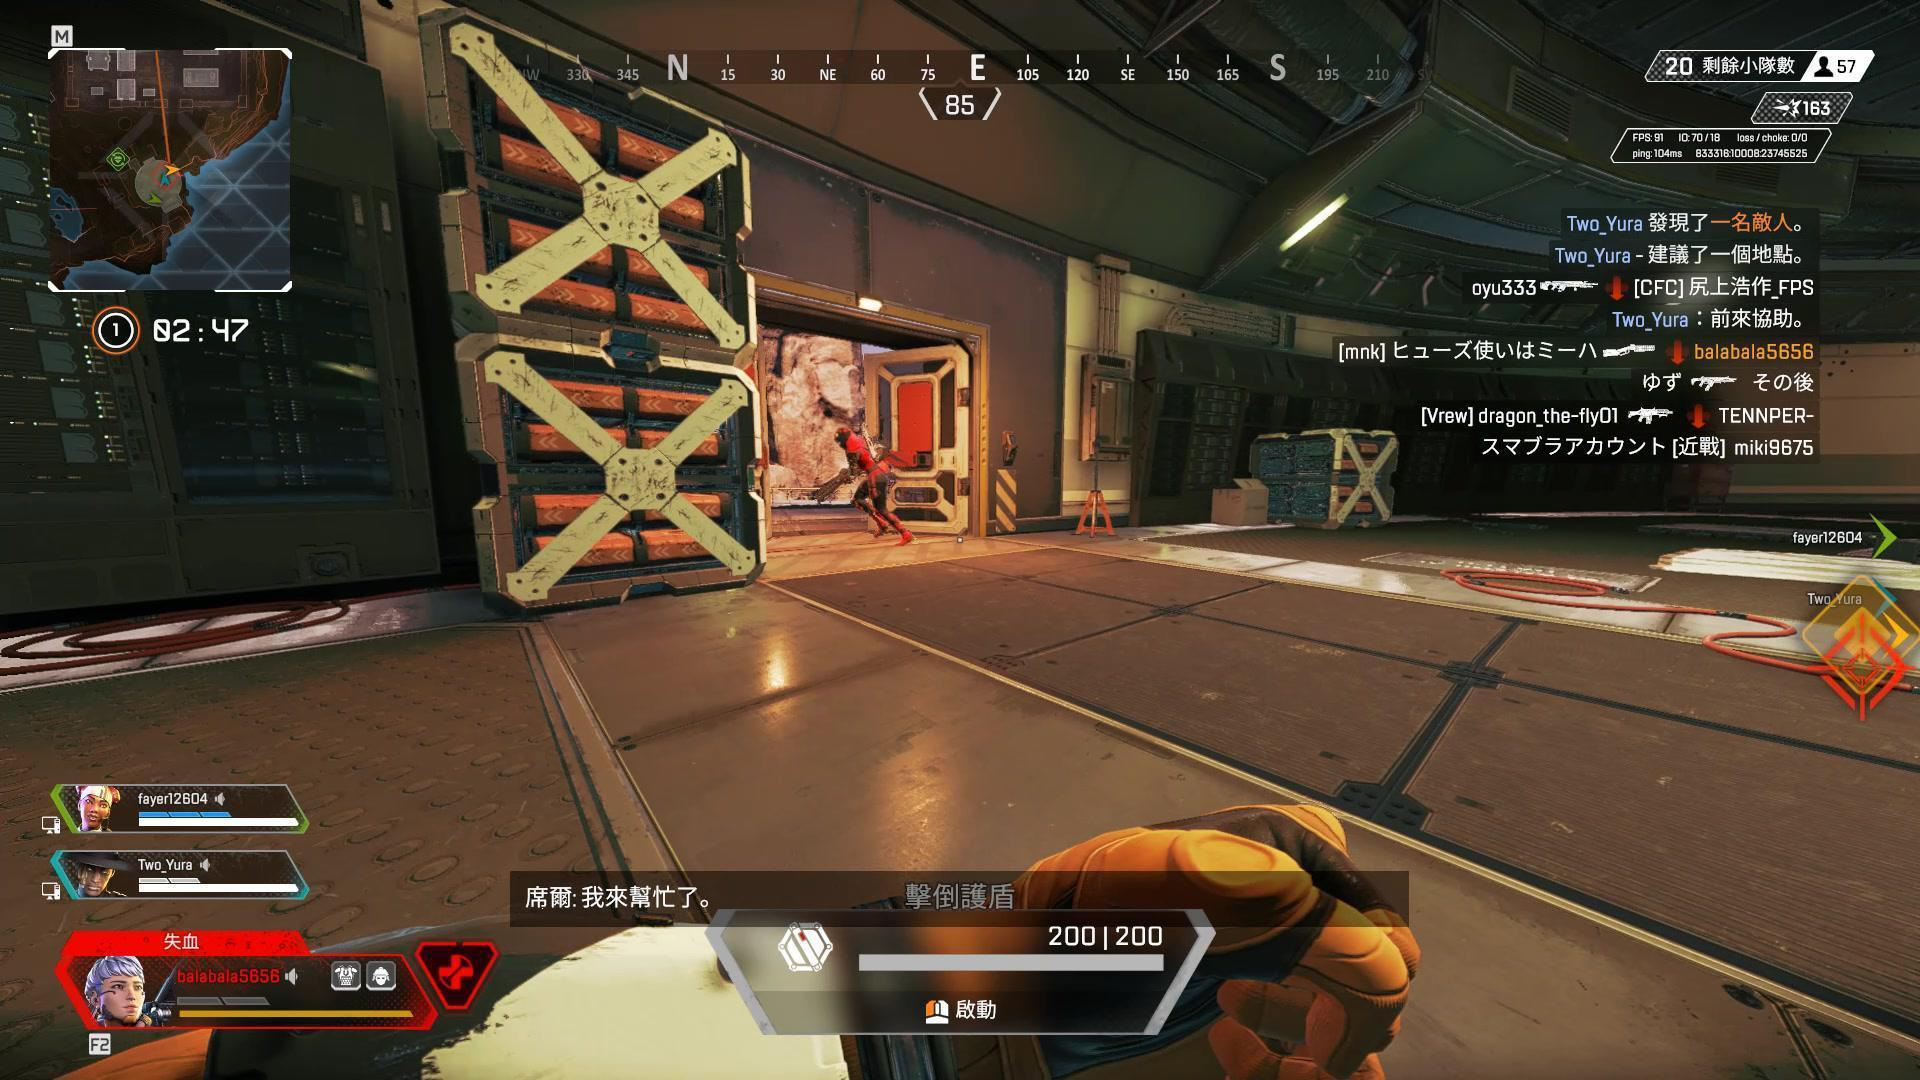avatar: (832, 421, 898, 539)
